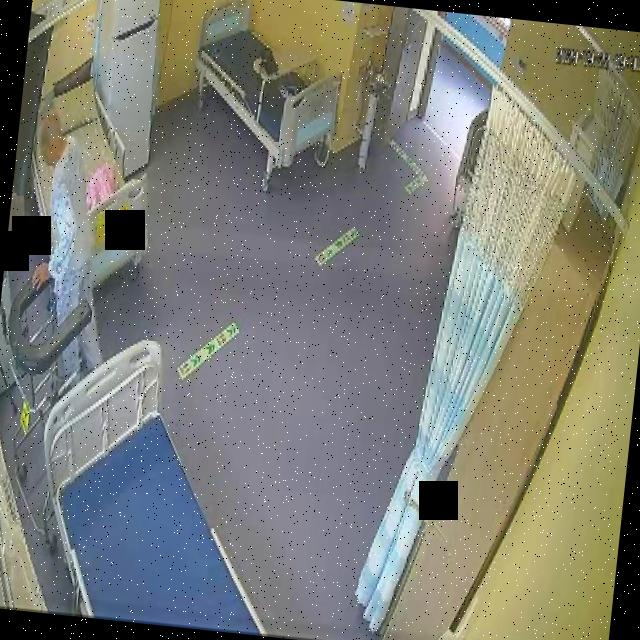bed: (22, 327, 290, 636), (15, 70, 164, 307), (187, 0, 349, 171)
move: (13, 112, 129, 382)
patient: (15, 111, 128, 382)
walker: (0, 260, 96, 485)
